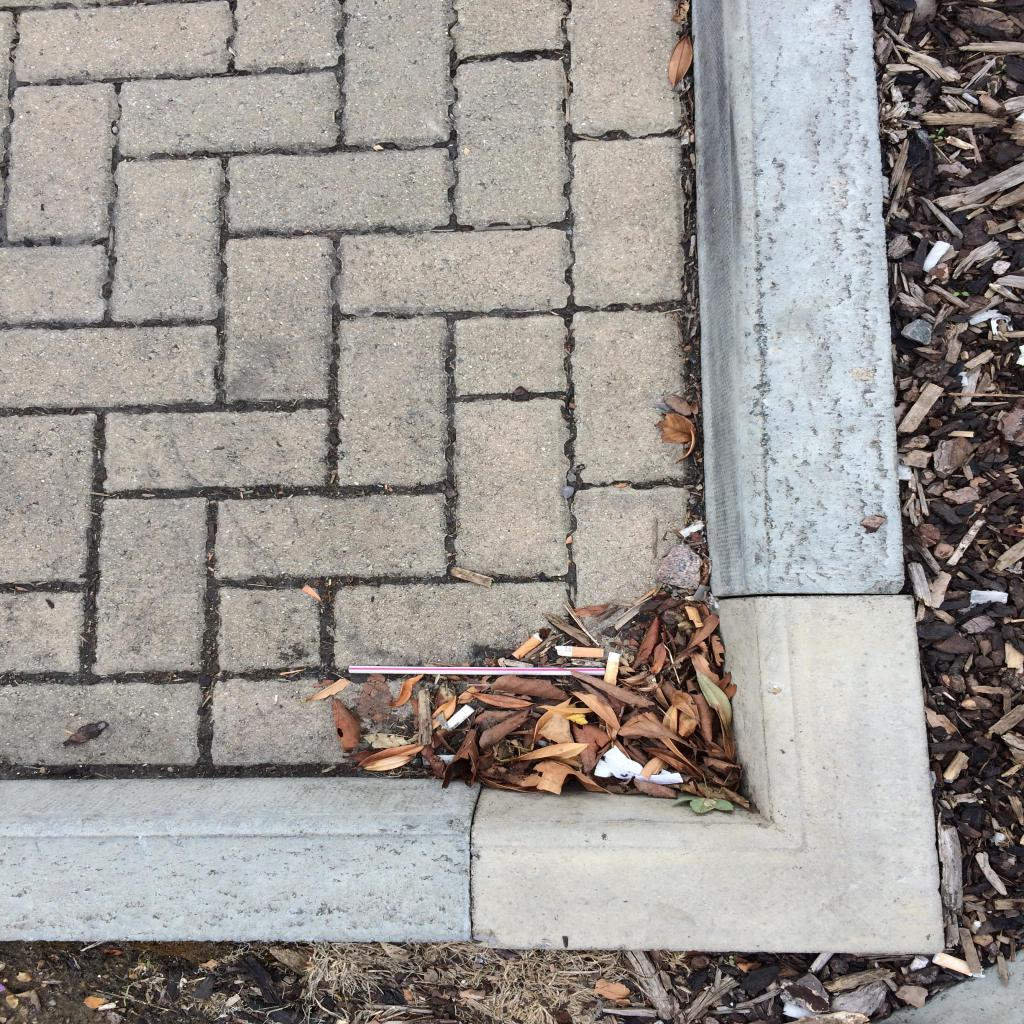Cigarette: (933, 952, 974, 976), (513, 632, 543, 660), (924, 241, 950, 273), (441, 706, 473, 730), (555, 646, 603, 658), (604, 652, 620, 686)
Normal paper: (594, 745, 682, 785)
Plastic straw: (349, 666, 604, 676)
